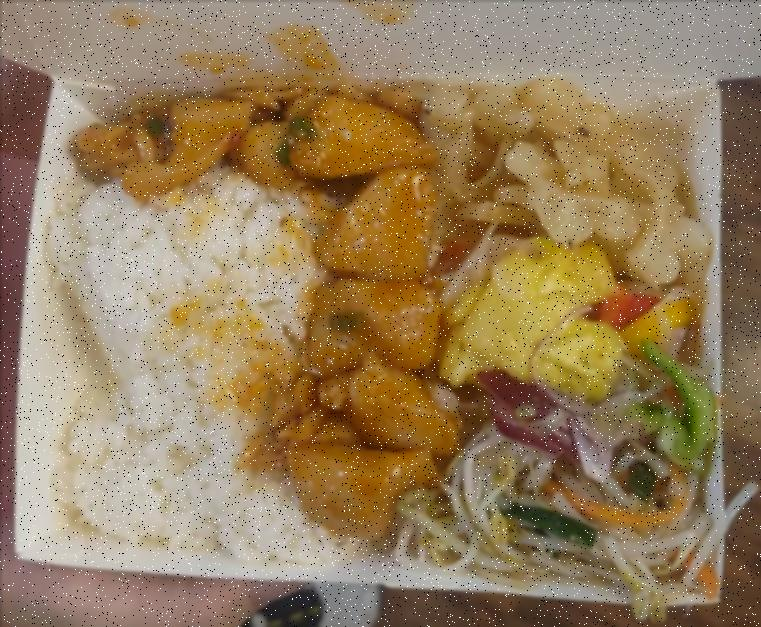box: (10, 64, 736, 610)
curry chicken: (73, 84, 445, 542)
side dish: (442, 251, 718, 598), (428, 79, 710, 274)
white rice: (53, 177, 382, 566)
